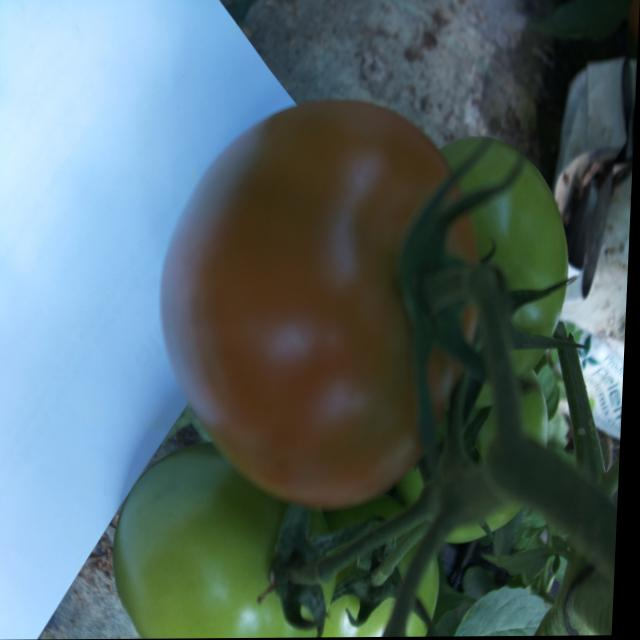sari: (150, 64, 490, 513)
